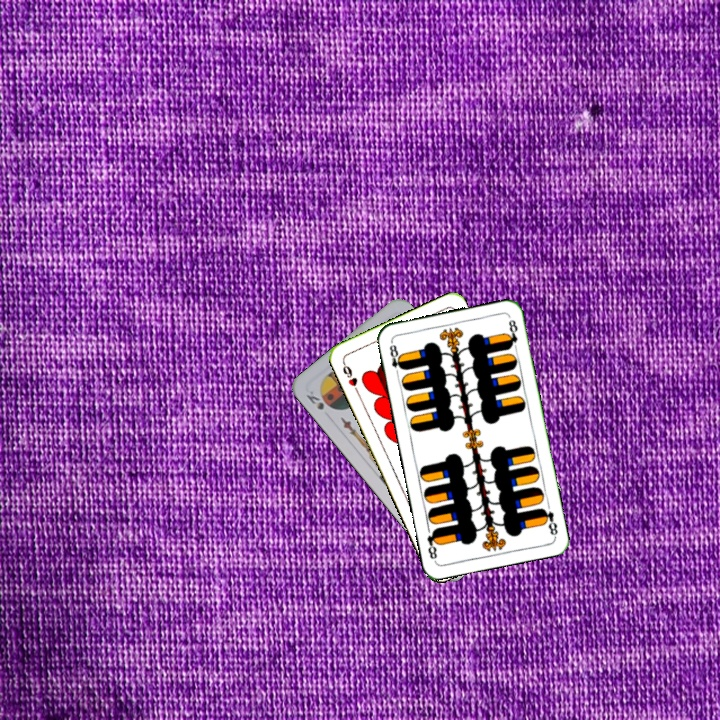E8: (385, 338, 406, 378), (538, 504, 560, 539)
H9: (338, 358, 362, 396)
SK: (302, 386, 327, 412)
